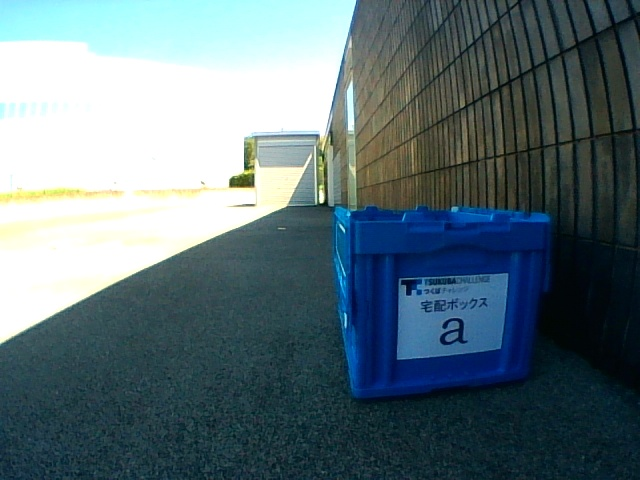blue_box: (335, 206, 549, 398)
tag_a: (408, 281, 497, 347)
